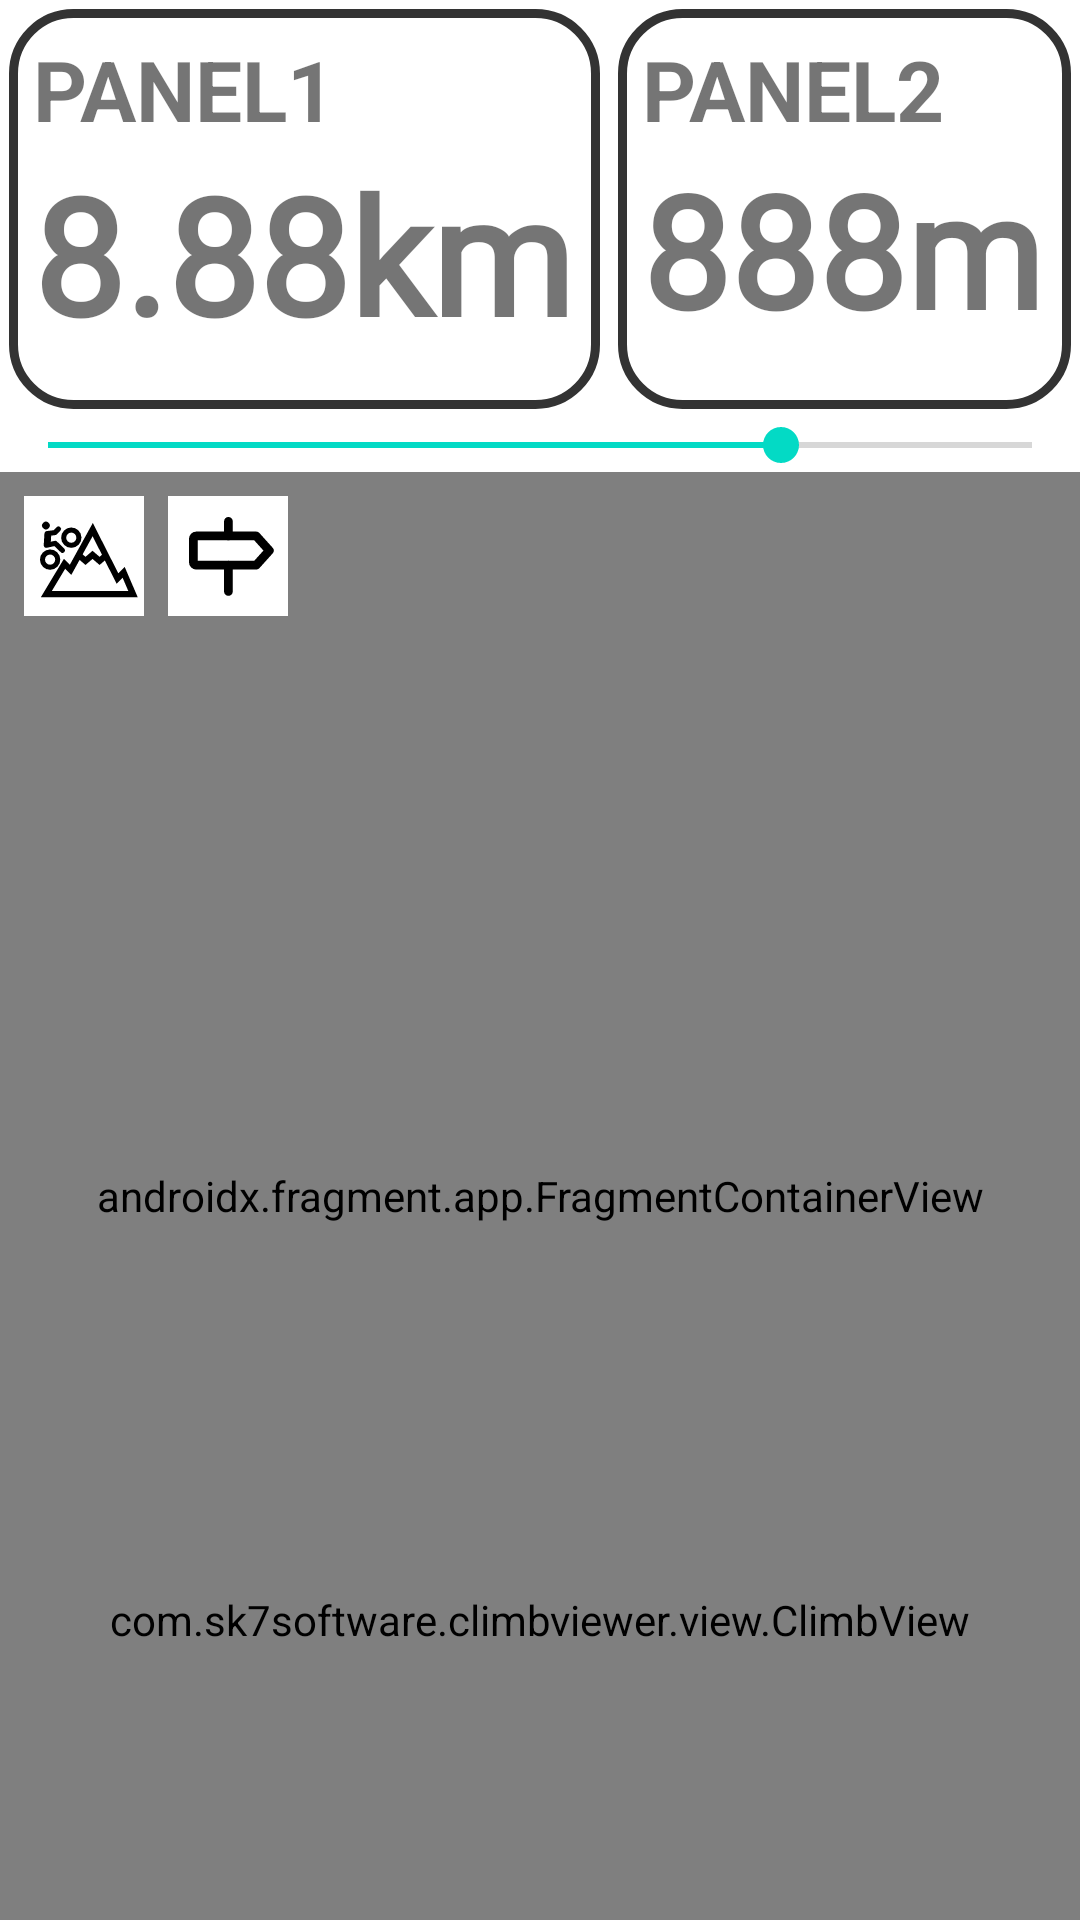

Named icons in this screenshot (1080 x 1920) and their centers, (x,y):
monitor climb: (84,556)
signpost: (228,556)
